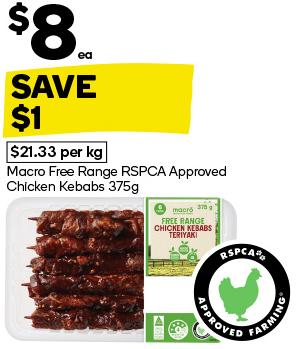description_block: (3, 163, 231, 195)
price_main: (3, 1, 106, 64)
product_image_block: (3, 196, 260, 347)
promo_text_block: (3, 67, 200, 140)
unit_price_block: (4, 141, 112, 164)
